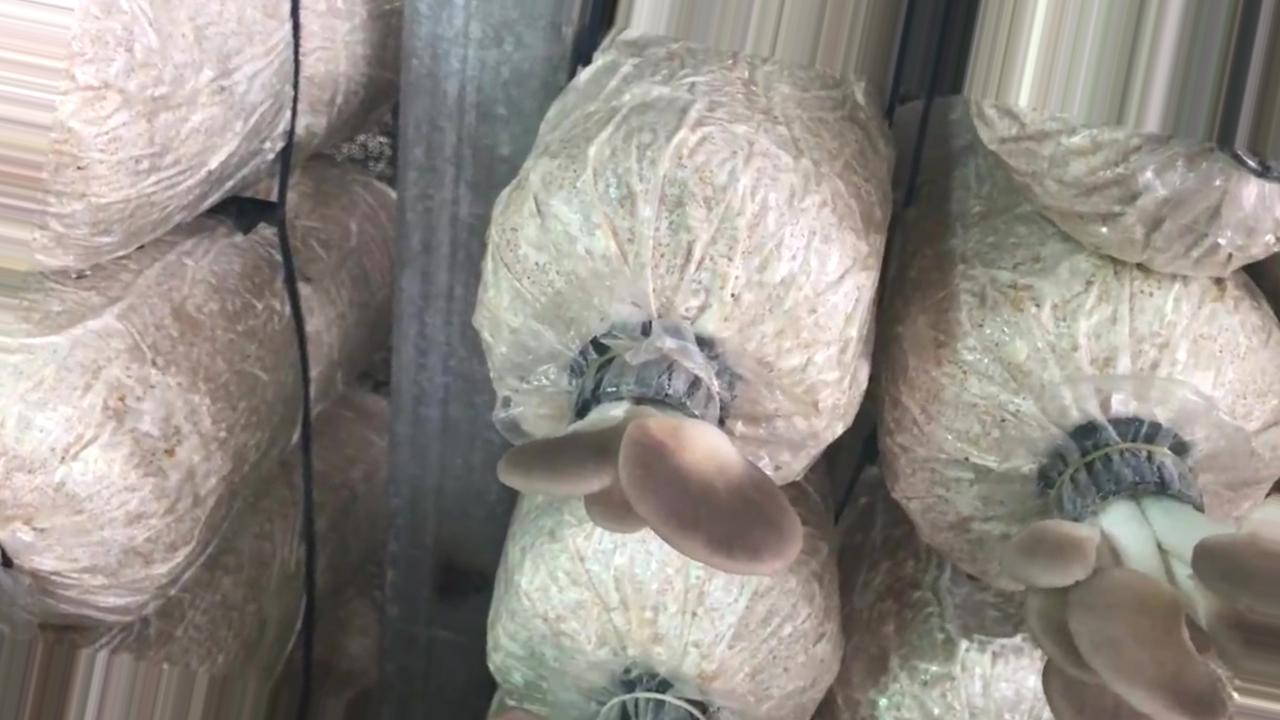nam: (1005, 427, 1280, 720), (495, 327, 805, 577)
